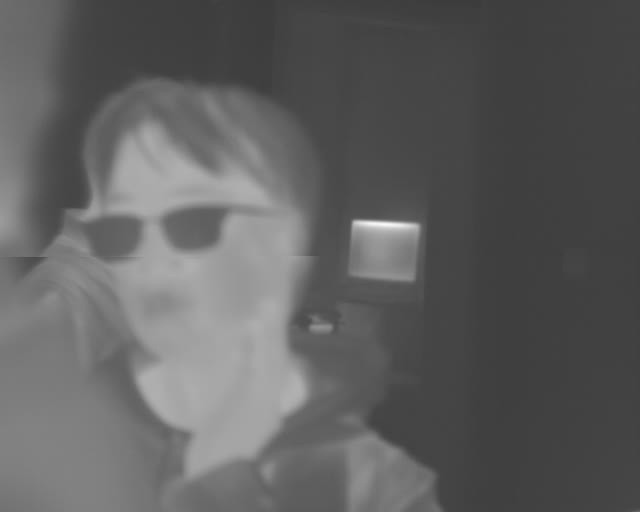face: (86, 77, 325, 358)
